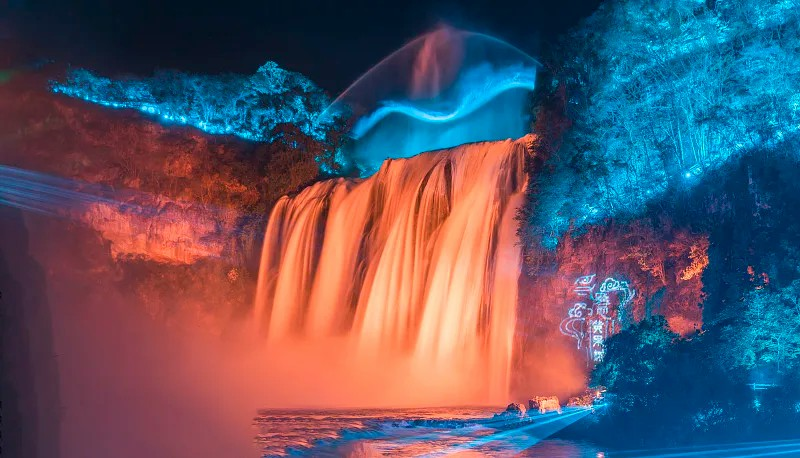Huangguoshu: (249, 134, 537, 410)
